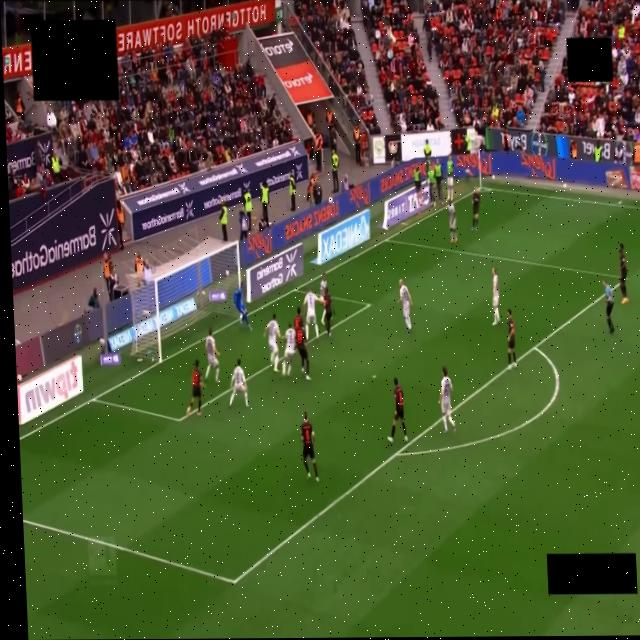player: (388, 378, 407, 443), (300, 413, 317, 482), (439, 366, 454, 433), (294, 320, 310, 380), (263, 314, 279, 372), (229, 358, 247, 406), (233, 284, 251, 330), (186, 360, 201, 415), (398, 279, 412, 333), (205, 329, 219, 382), (303, 291, 318, 339), (281, 324, 295, 375), (322, 287, 335, 337), (618, 243, 628, 305), (507, 309, 516, 369), (492, 268, 499, 325), (447, 201, 456, 244), (472, 188, 479, 230), (293, 307, 304, 330), (319, 273, 327, 300)
referee: (603, 281, 613, 334)
